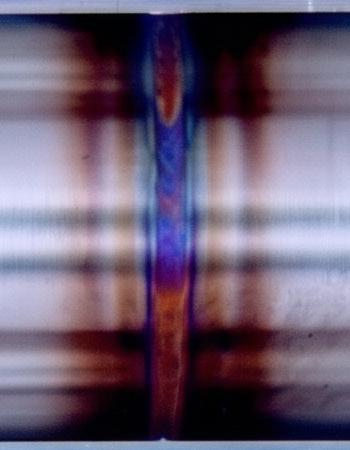soldas: (47, 3, 301, 446)
